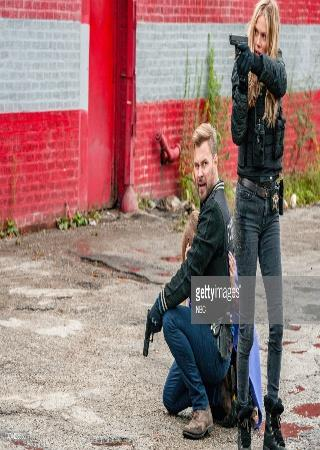handgun: (140, 308, 155, 356), (227, 32, 250, 60)
